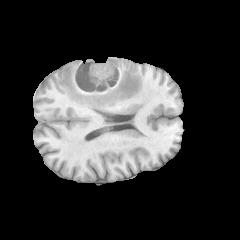glioma: (54, 57, 142, 110)
